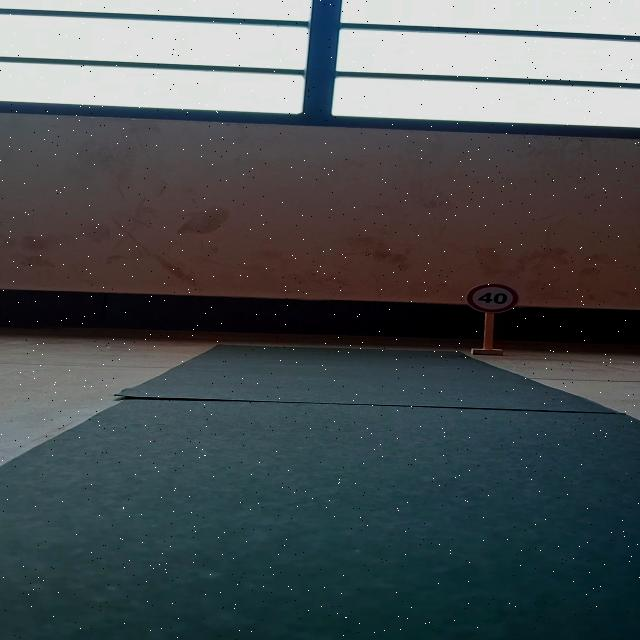Speed40: (463, 281, 520, 315)
